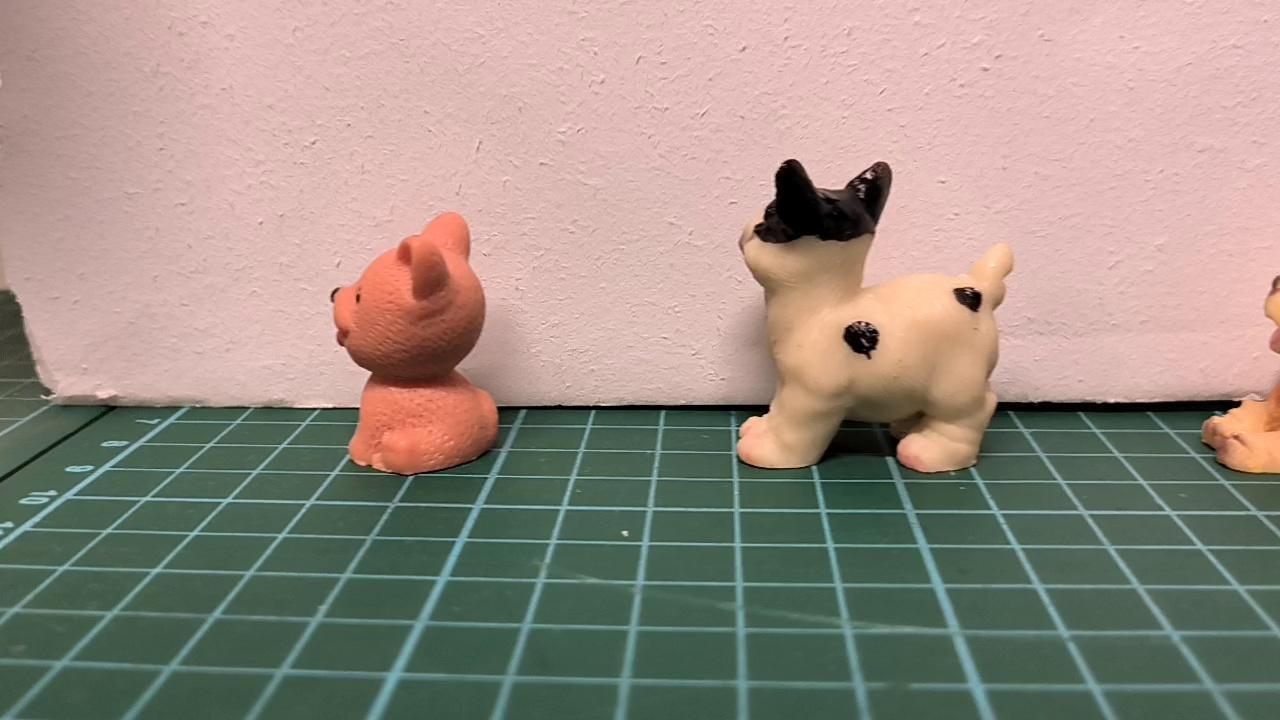pet: (726, 150, 1019, 479), (322, 208, 504, 476)
